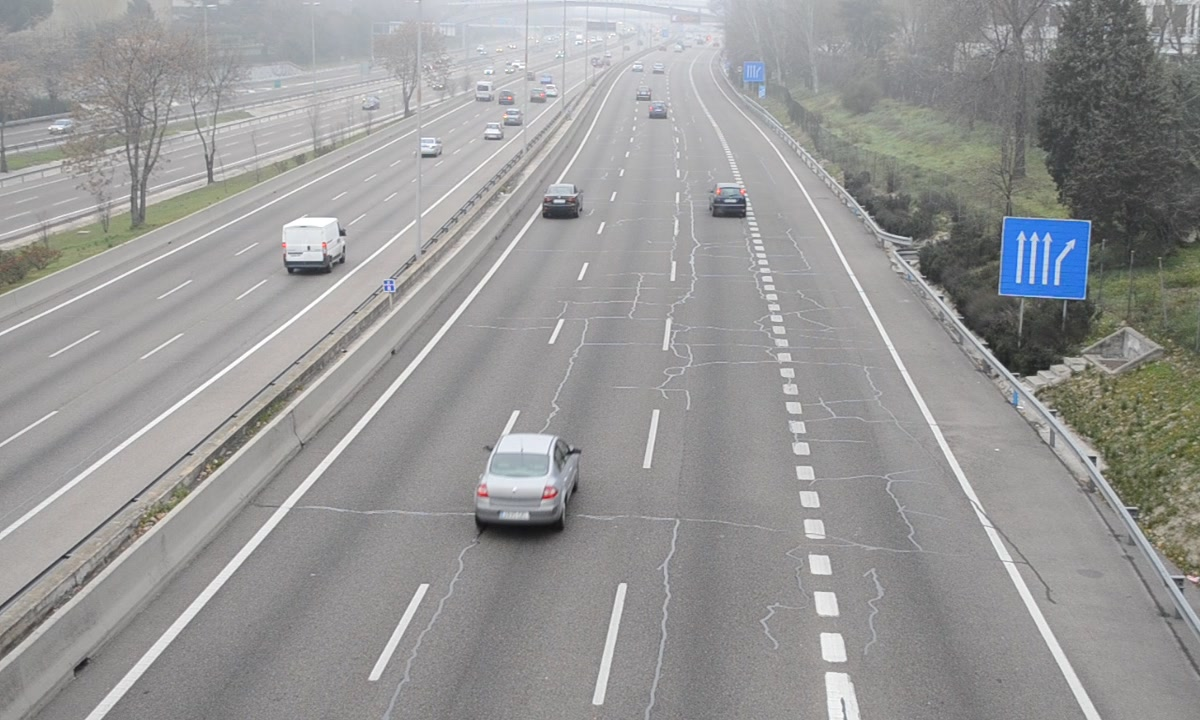car: (475, 433, 578, 531), (542, 183, 581, 217), (710, 183, 747, 218)
